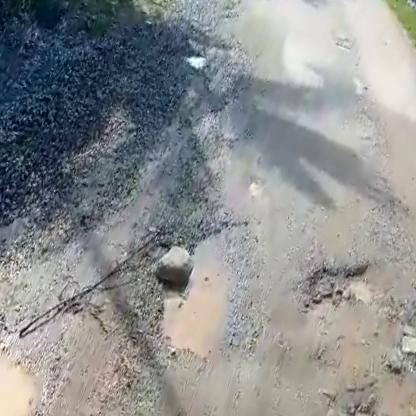pothole: (146, 218, 266, 367), (297, 244, 382, 335), (0, 331, 57, 416), (381, 281, 416, 409)
